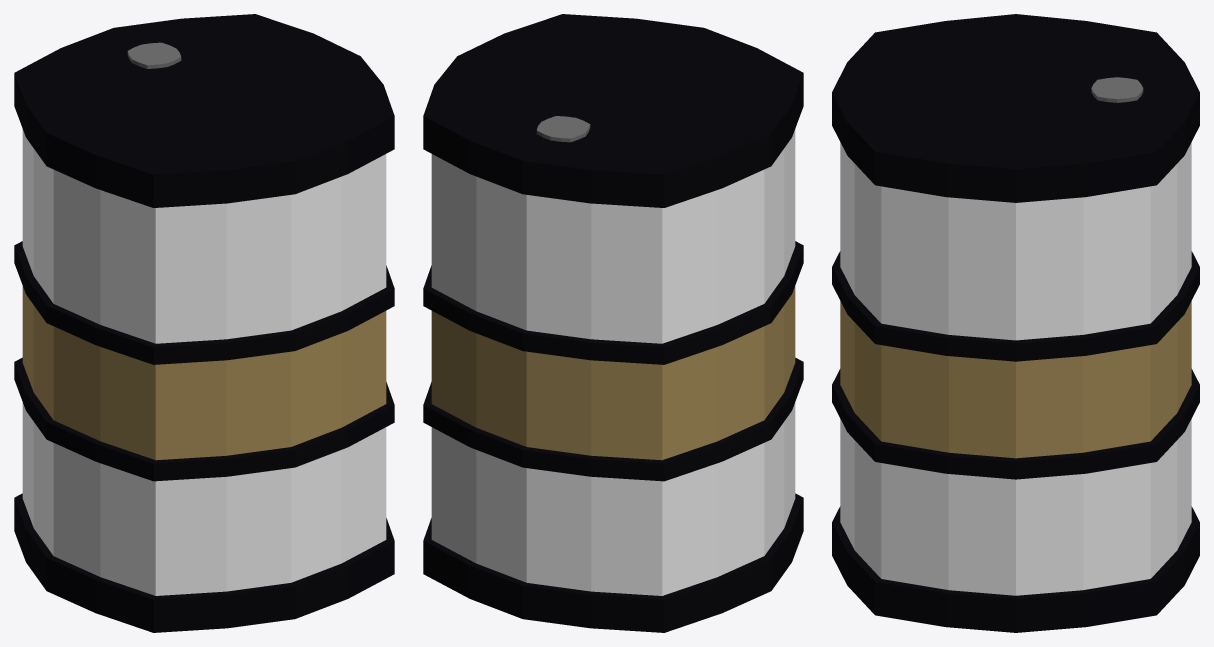
The model's file is barel.glb.
The picture shows the model from 3 angles, left to right: view 1: azimuth 30°, elevation 25°; view 2: azimuth 150°, elevation 25°; view 3: azimuth 270°, elevation 25°; orthographic projection.
Size of the model in its own units: 0.7623 by 1.07 by 0.7636.
